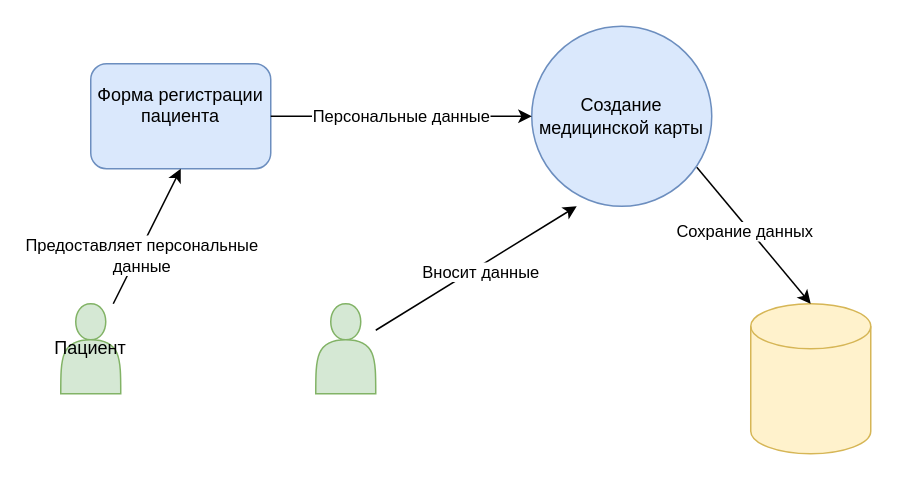
Some shapes in this 899 by 480 pixel diagram are drawn without their labels. Here are the shapes that lost their labels. From the top down, the centre of each, then its label:
At (345,348): "Админстратор".
At (810,378): "Диск".
